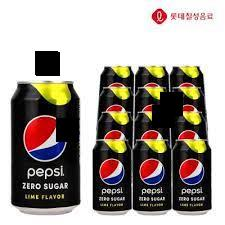pepsi_zero: (8, 75, 85, 218)
